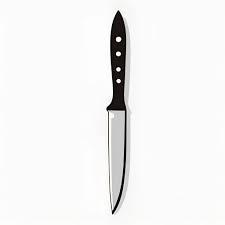Knife: (106, 9, 128, 214)
